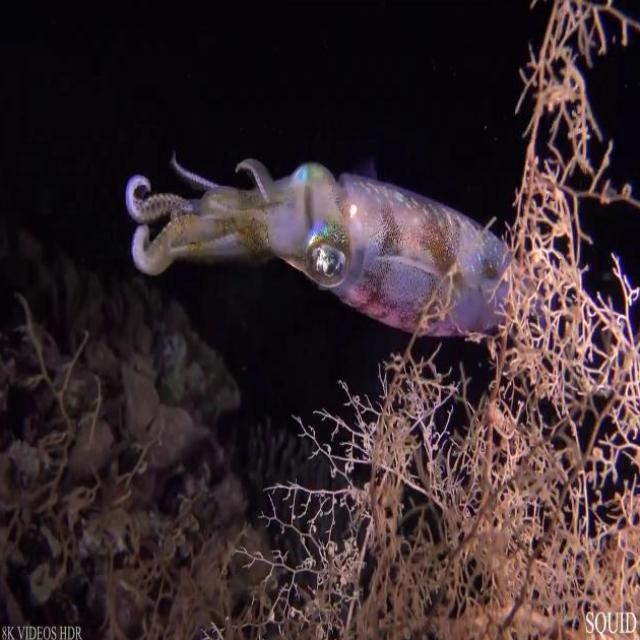SQUID: (98, 135, 610, 411)
